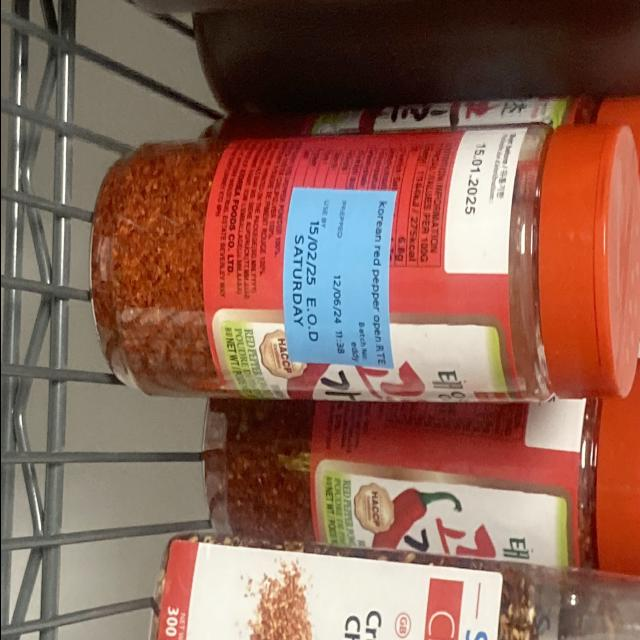product-labels: (282, 190, 397, 368)
